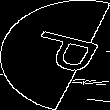P_E: (11, 29, 99, 81)
